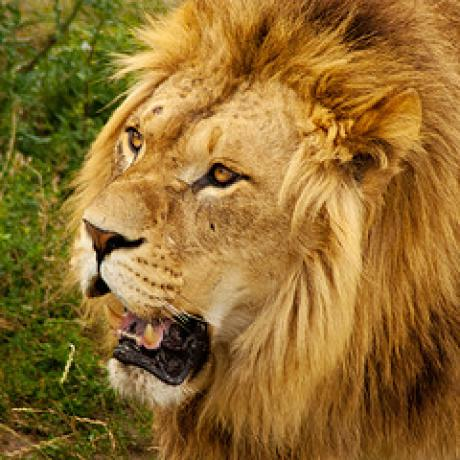Lion: (68, 0, 460, 460)
